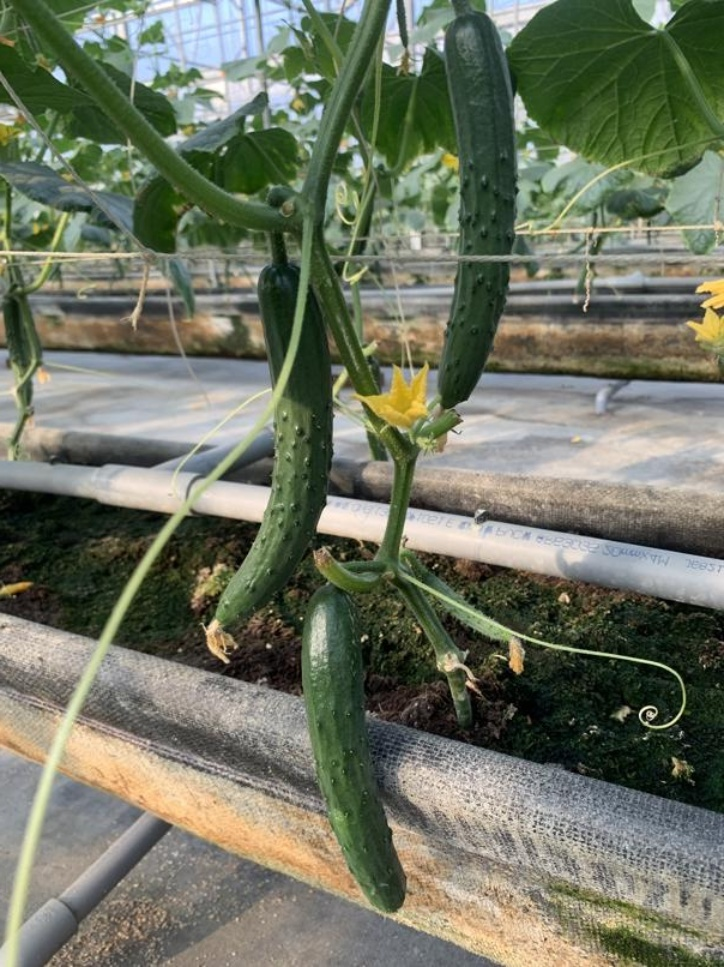mature: (194, 251, 341, 641), (294, 581, 414, 923), (439, 13, 524, 407)
